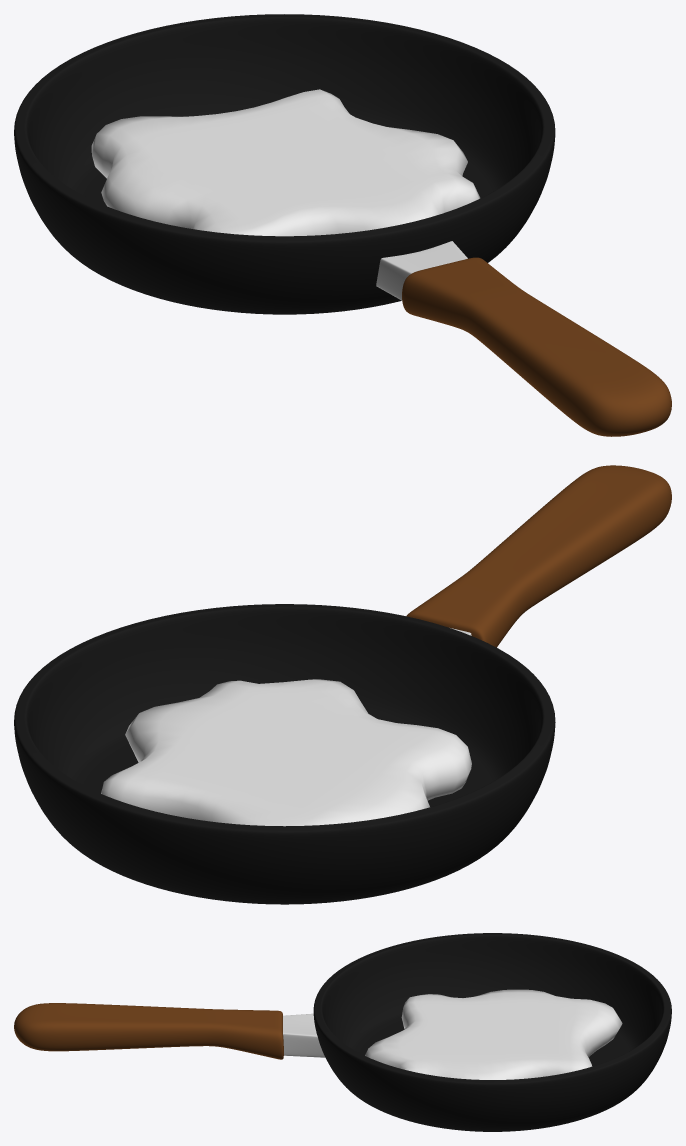
The model's file is FryingPan+Food.fbx.
3 views of the same model, one above another, from view 1: azimuth 30°, elevation 25°; view 2: azimuth 150°, elevation 25°; view 3: azimuth 270°, elevation 25° (orthographic). The views are drawn at different scales.
Parts seen in each view (by area): view 1: Frying pan, Cube, Mango, Agarre; view 2: Frying pan, Cube, Mango; view 3: Frying pan, Cube, Mango, Agarre.
Part boxes in pixels (box(x1,y1,x2,y2)): Frying pan: box(14, 14, 555, 314); Cube: box(91, 89, 480, 236); Mango: box(402, 257, 671, 436); Agarre: box(376, 241, 467, 300); Frying pan: box(14, 604, 555, 904); Cube: box(101, 679, 471, 826); Mango: box(406, 465, 671, 647); Frying pan: box(313, 933, 671, 1131); Cube: box(365, 989, 622, 1079); Mango: box(14, 1003, 283, 1059); Agarre: box(283, 1013, 325, 1057).
Bounding box in the file's own units: 237 × 46.4 × 436.
